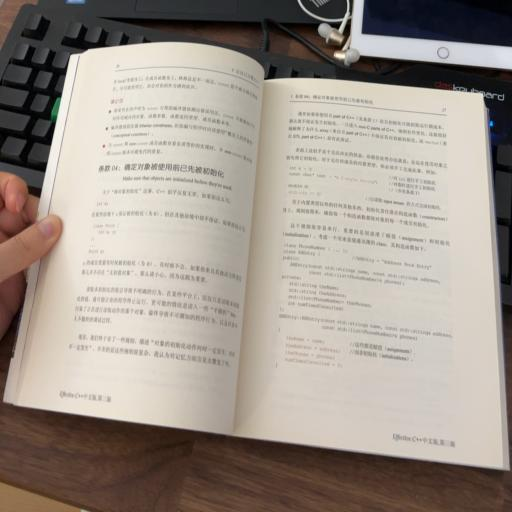paper: (30, 22, 512, 501)
